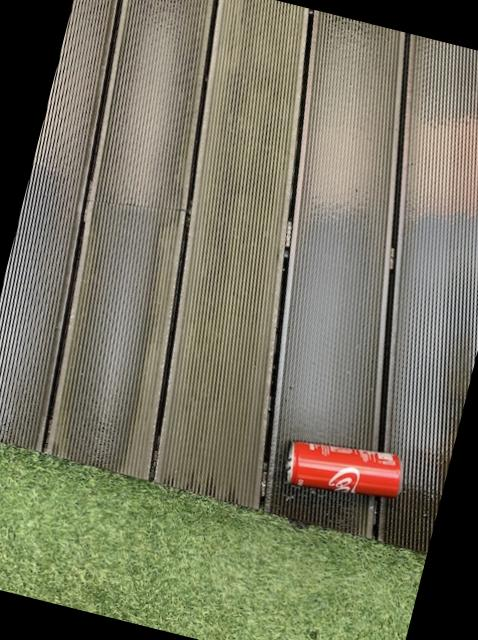metal: (286, 441, 402, 496)
